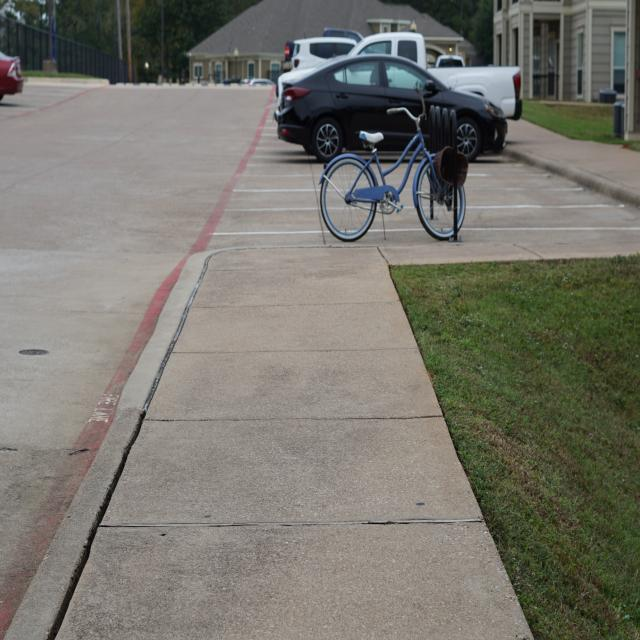Automobile: (275, 57, 506, 158), (428, 56, 521, 120), (349, 31, 426, 69), (291, 36, 358, 70), (0, 52, 24, 100)
Obstacle: (322, 107, 465, 241)
Road: (0, 85, 321, 639), (468, 156, 635, 239)
Sidewalk: (0, 235, 640, 640), (510, 116, 640, 218)
